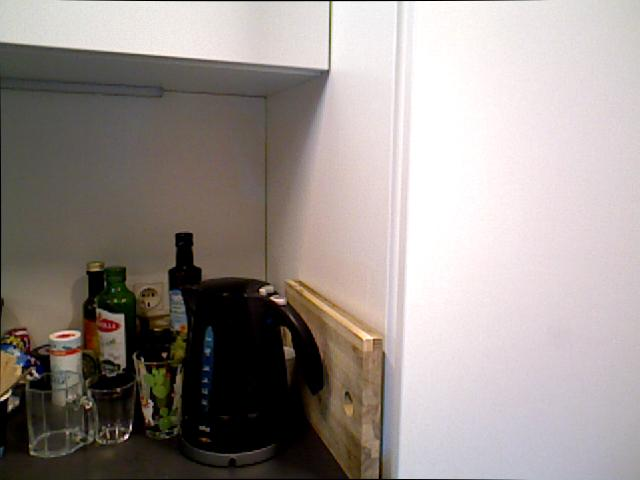bench: (95, 265, 136, 376), (167, 231, 202, 338), (82, 260, 105, 359)
handbag: (24, 371, 96, 458), (132, 349, 183, 440), (86, 371, 136, 445)
hot dog: (381, 0, 639, 479)
